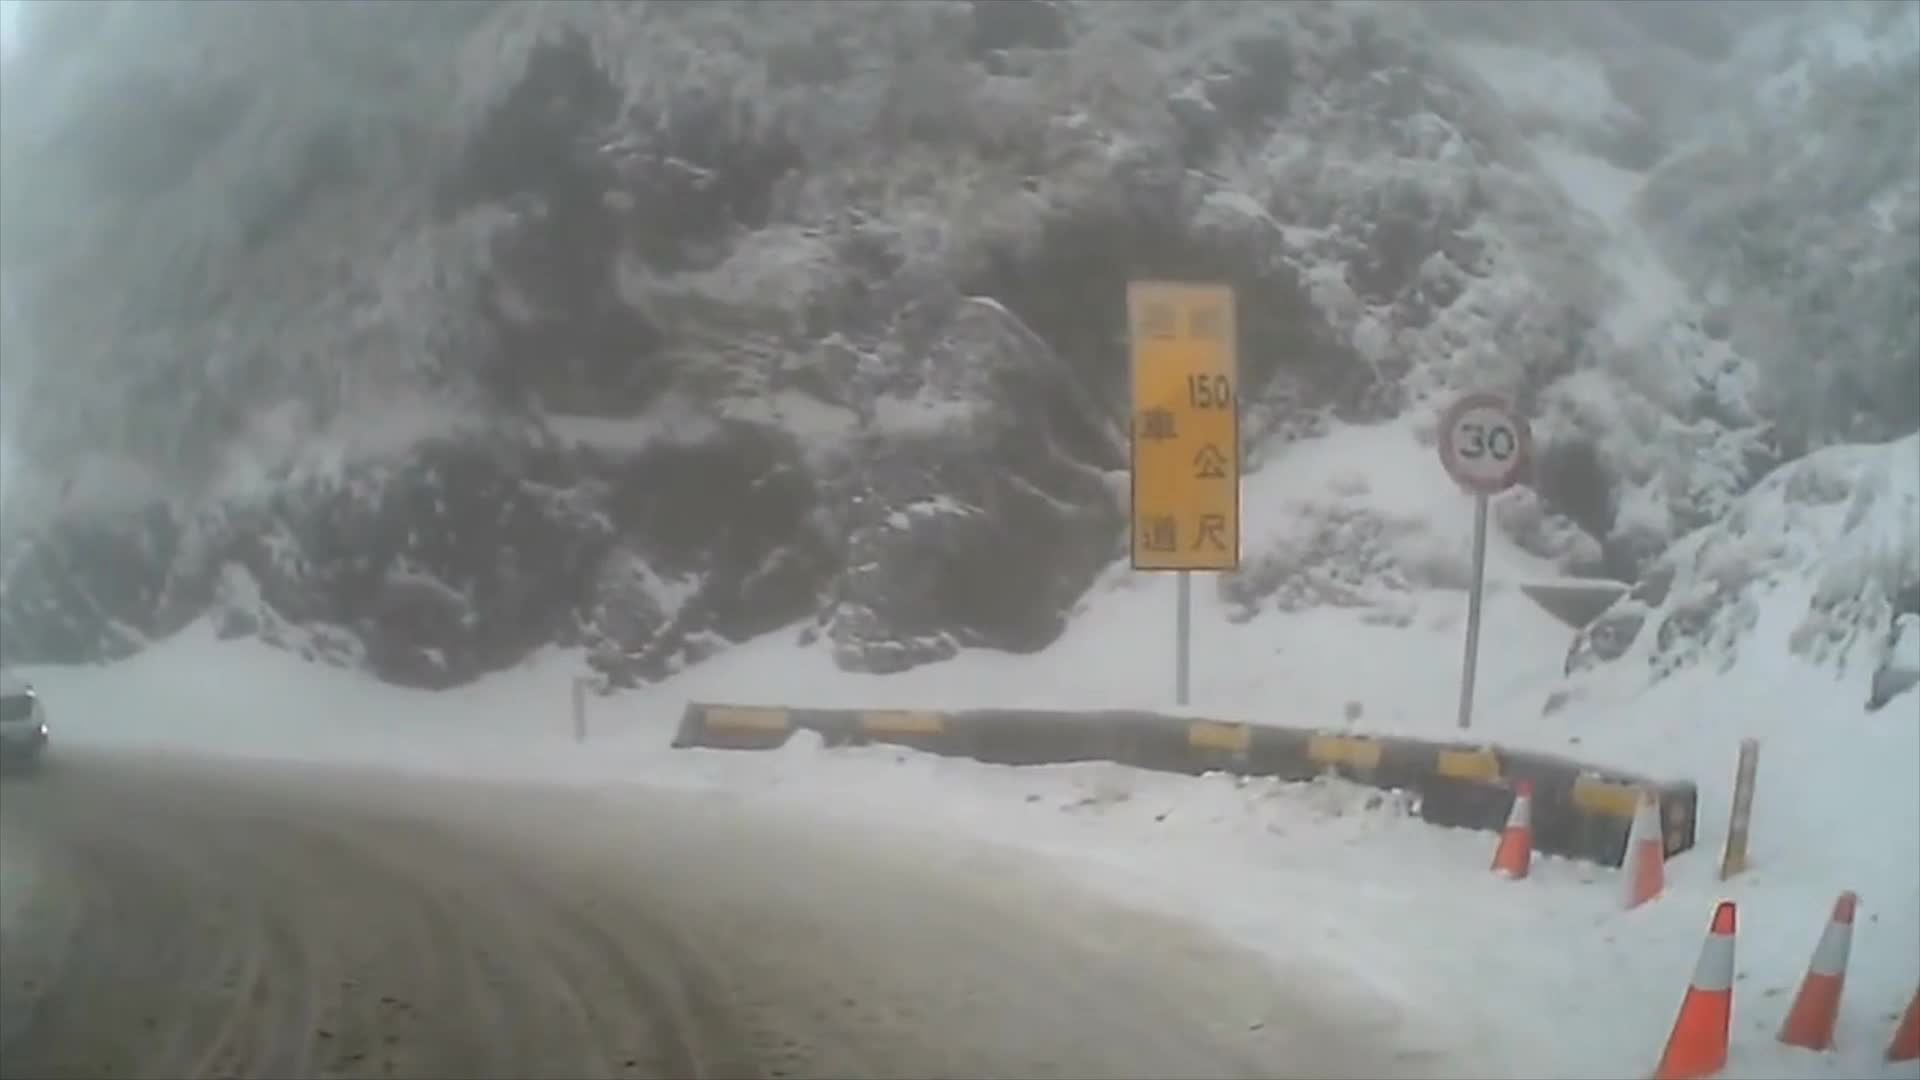vehicle: (0, 670, 47, 771)
